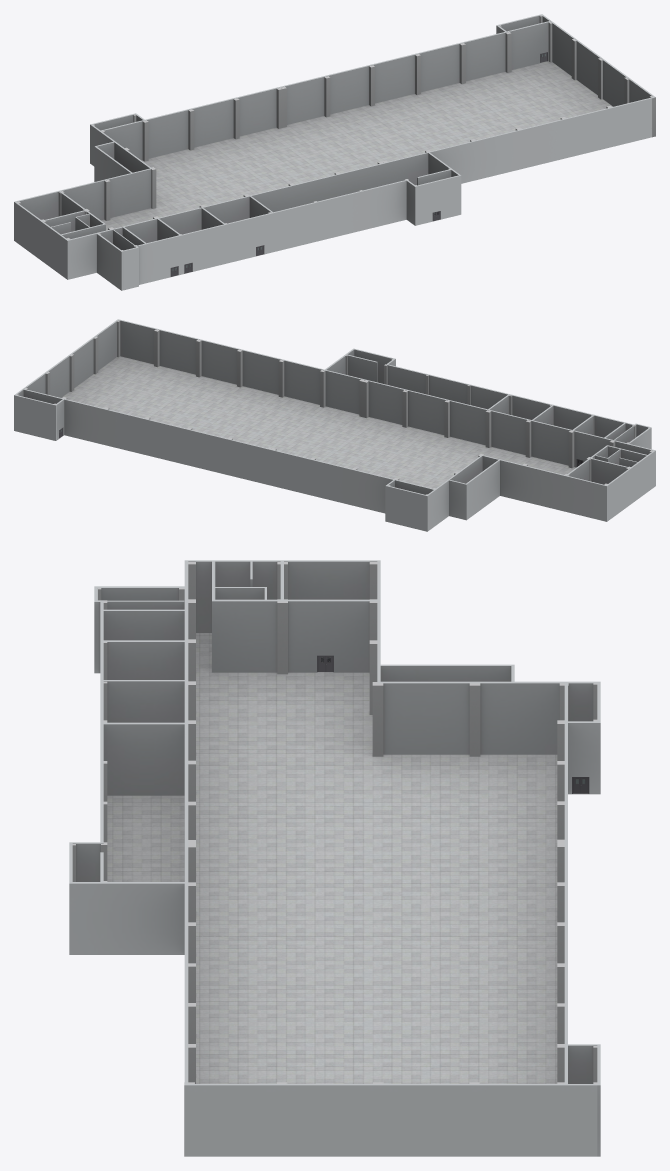
The model's file is LXWZ_4-1F.glb.
The picture shows the model from 3 angles, top to bottom: view 1: azimuth 30°, elevation 25°; view 2: azimuth 150°, elevation 25°; view 3: azimuth 270°, elevation 25°; orthographic projection. The views are drawn at different scales.
Size of the model in its own units: 120 by 7.63 by 51.48.
Materials: 1 (1 with a texture image).
